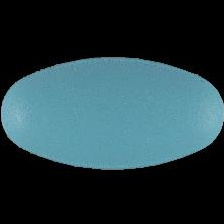0378-2180: (0, 0, 224, 224)
